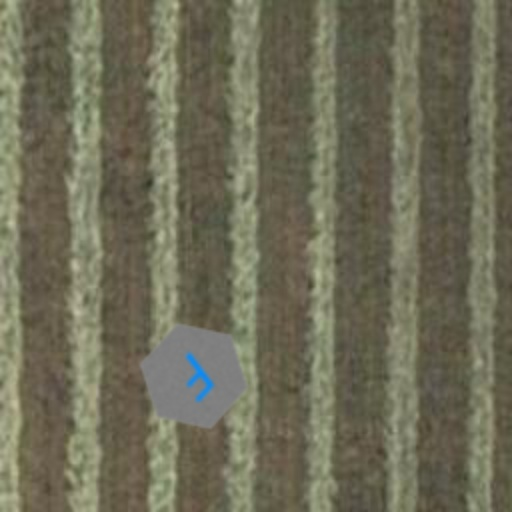hexagon: (114, 296, 274, 456)
